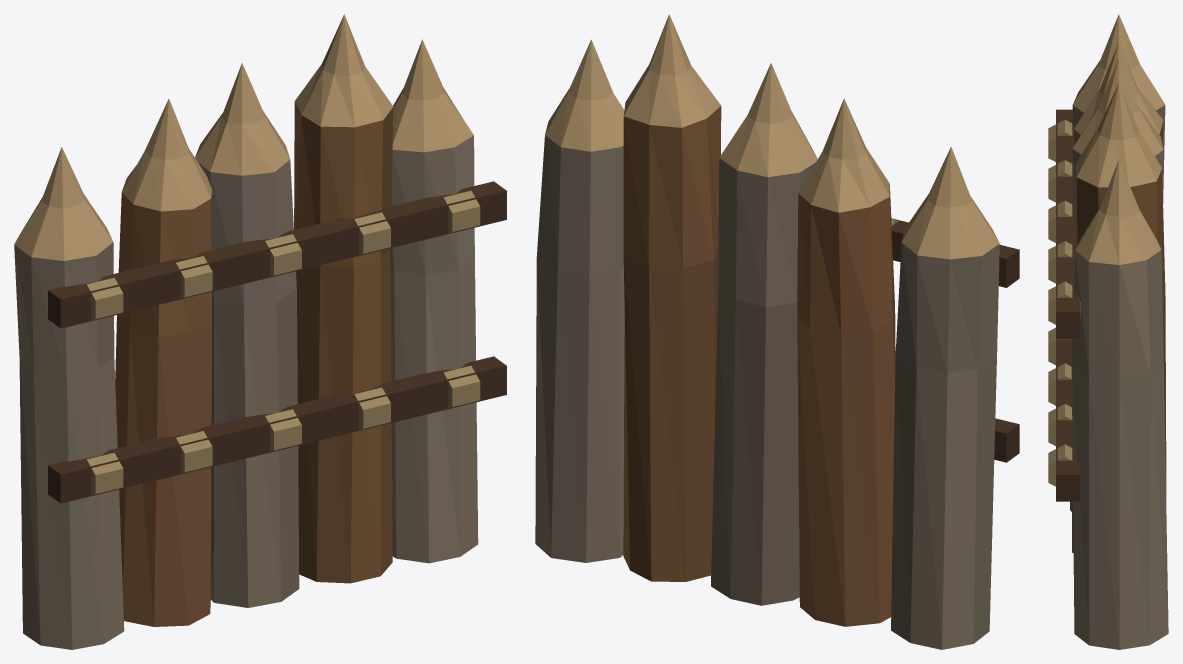
Rendered from Palisade.glb.
The picture shows the model from 3 angles, left to right: view 1: azimuth 30°, elevation 25°; view 2: azimuth 150°, elevation 25°; view 3: azimuth 270°, elevation 25°; orthographic projection. The views are drawn at different scales.
Parts seen in each view (by area): view 1: Mat_Wood_7e6148, Mat_Wood_68482d, Mat_Wood_857665, Mat_Thatch_94805b, Mat_Thatch_ac9065; view 2: Mat_Wood_68482d, Mat_Wood_7e6148, Mat_Wood_857665, Mat_Thatch_ac9065, Mat_Thatch_94805b; view 3: Mat_Wood_857665, Mat_Thatch_ac9065, Mat_Wood_68482d, Mat_Thatch_94805b, Mat_Wood_7e6148.
Part boxes in pixels (left/top/right/bottom): Mat_Wood_7e6148: left=19, top=101, right=383, bottom=645; Mat_Wood_68482d: left=48, top=107, right=506, bottom=625; Mat_Wood_857665: left=31, top=135, right=478, bottom=643; Mat_Thatch_94805b: left=14, top=147, right=480, bottom=649; Mat_Thatch_ac9065: left=14, top=14, right=480, bottom=260; Mat_Wood_68482d: left=623, top=116, right=1019, bottom=626; Mat_Wood_7e6148: left=623, top=106, right=996, bottom=643; Mat_Wood_857665: left=535, top=135, right=977, bottom=649; Mat_Thatch_ac9065: left=545, top=14, right=999, bottom=259; Mat_Thatch_94805b: left=586, top=219, right=999, bottom=649; Mat_Wood_857665: left=1071, top=149, right=1168, bottom=649; Mat_Thatch_ac9065: left=1048, top=14, right=1164, bottom=323; Mat_Wood_68482d: left=1056, top=109, right=1166, bottom=511; Mat_Thatch_94805b: left=1048, top=120, right=1150, bottom=486; Mat_Wood_7e6148: left=1072, top=105, right=1165, bottom=553.
Size of the model in its own units: 8.09 by 9.41 by 2.01.
Materials: 1 (1 with a texture image).
